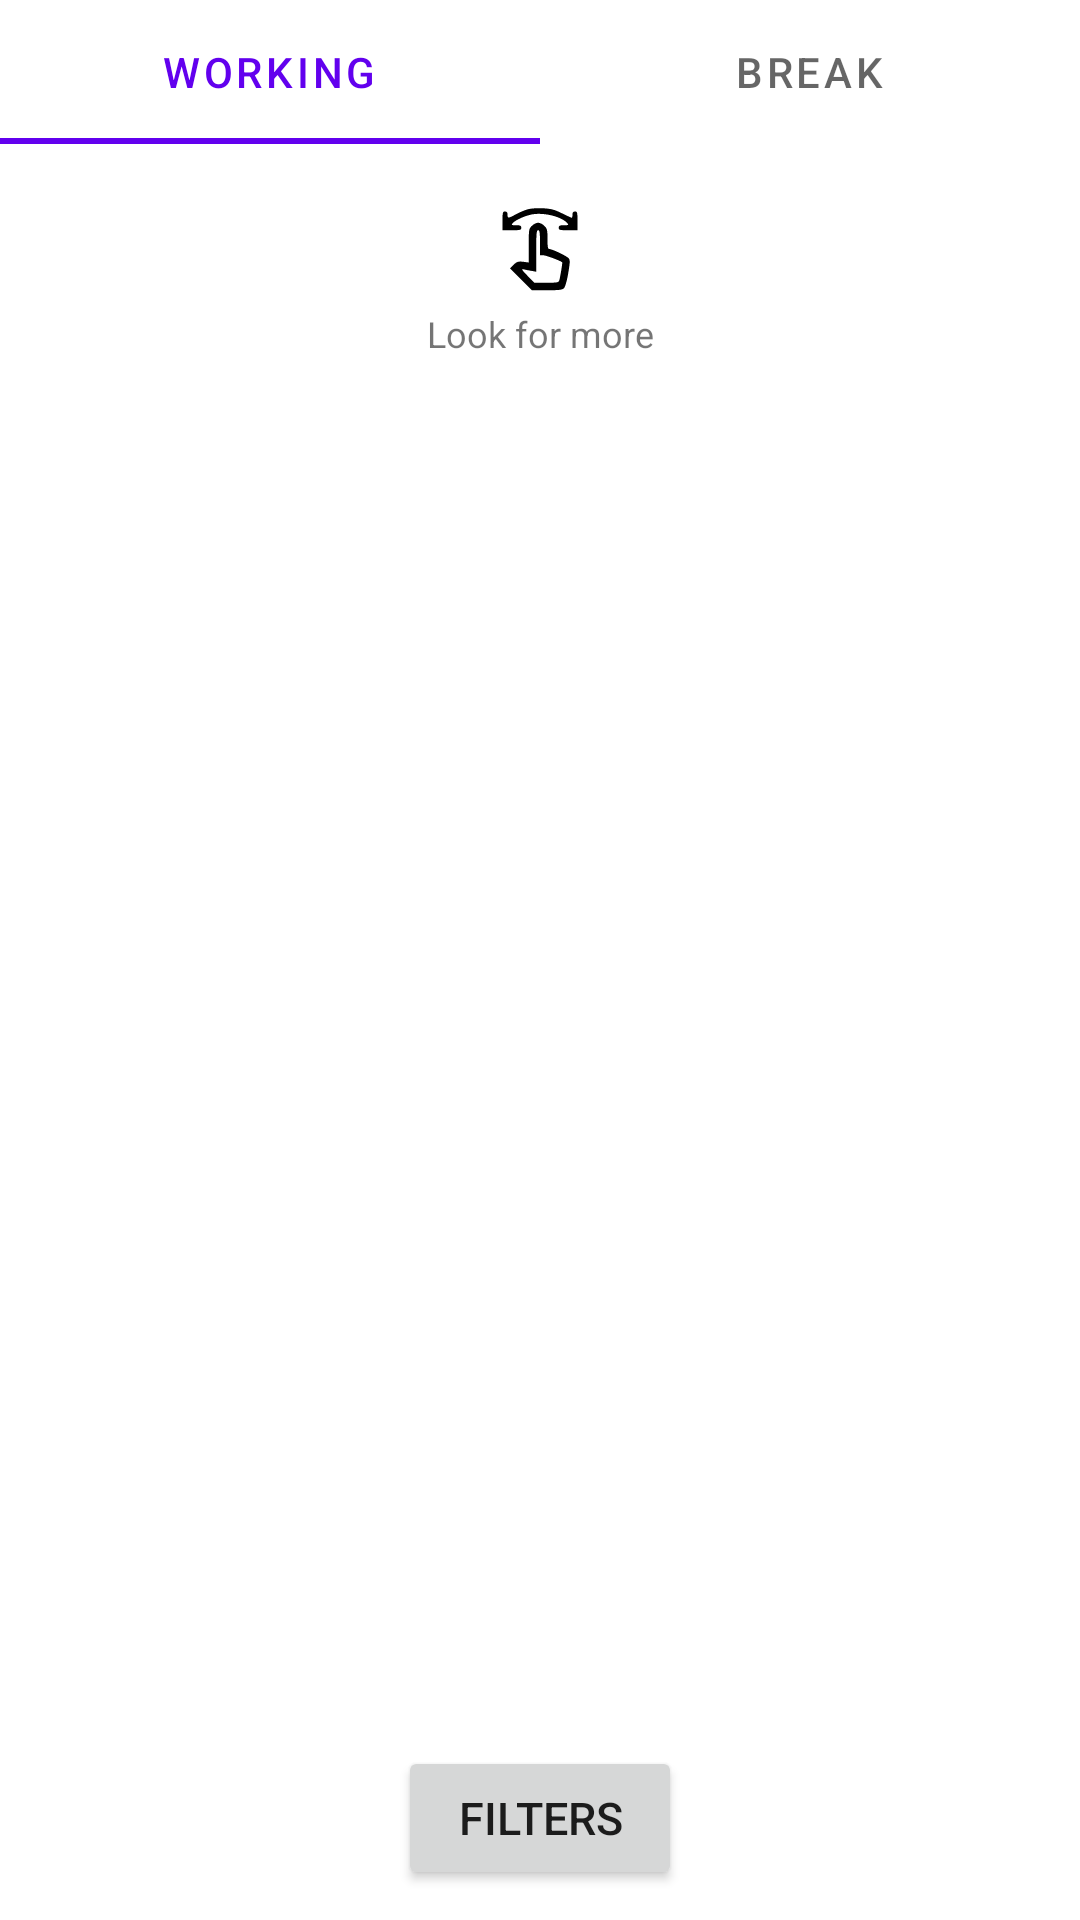

Locate icon controls on the screen. Image size 1080 × 1920, boxes as (x1, y1, x2, y2).
swipe: (502, 208, 578, 291)
